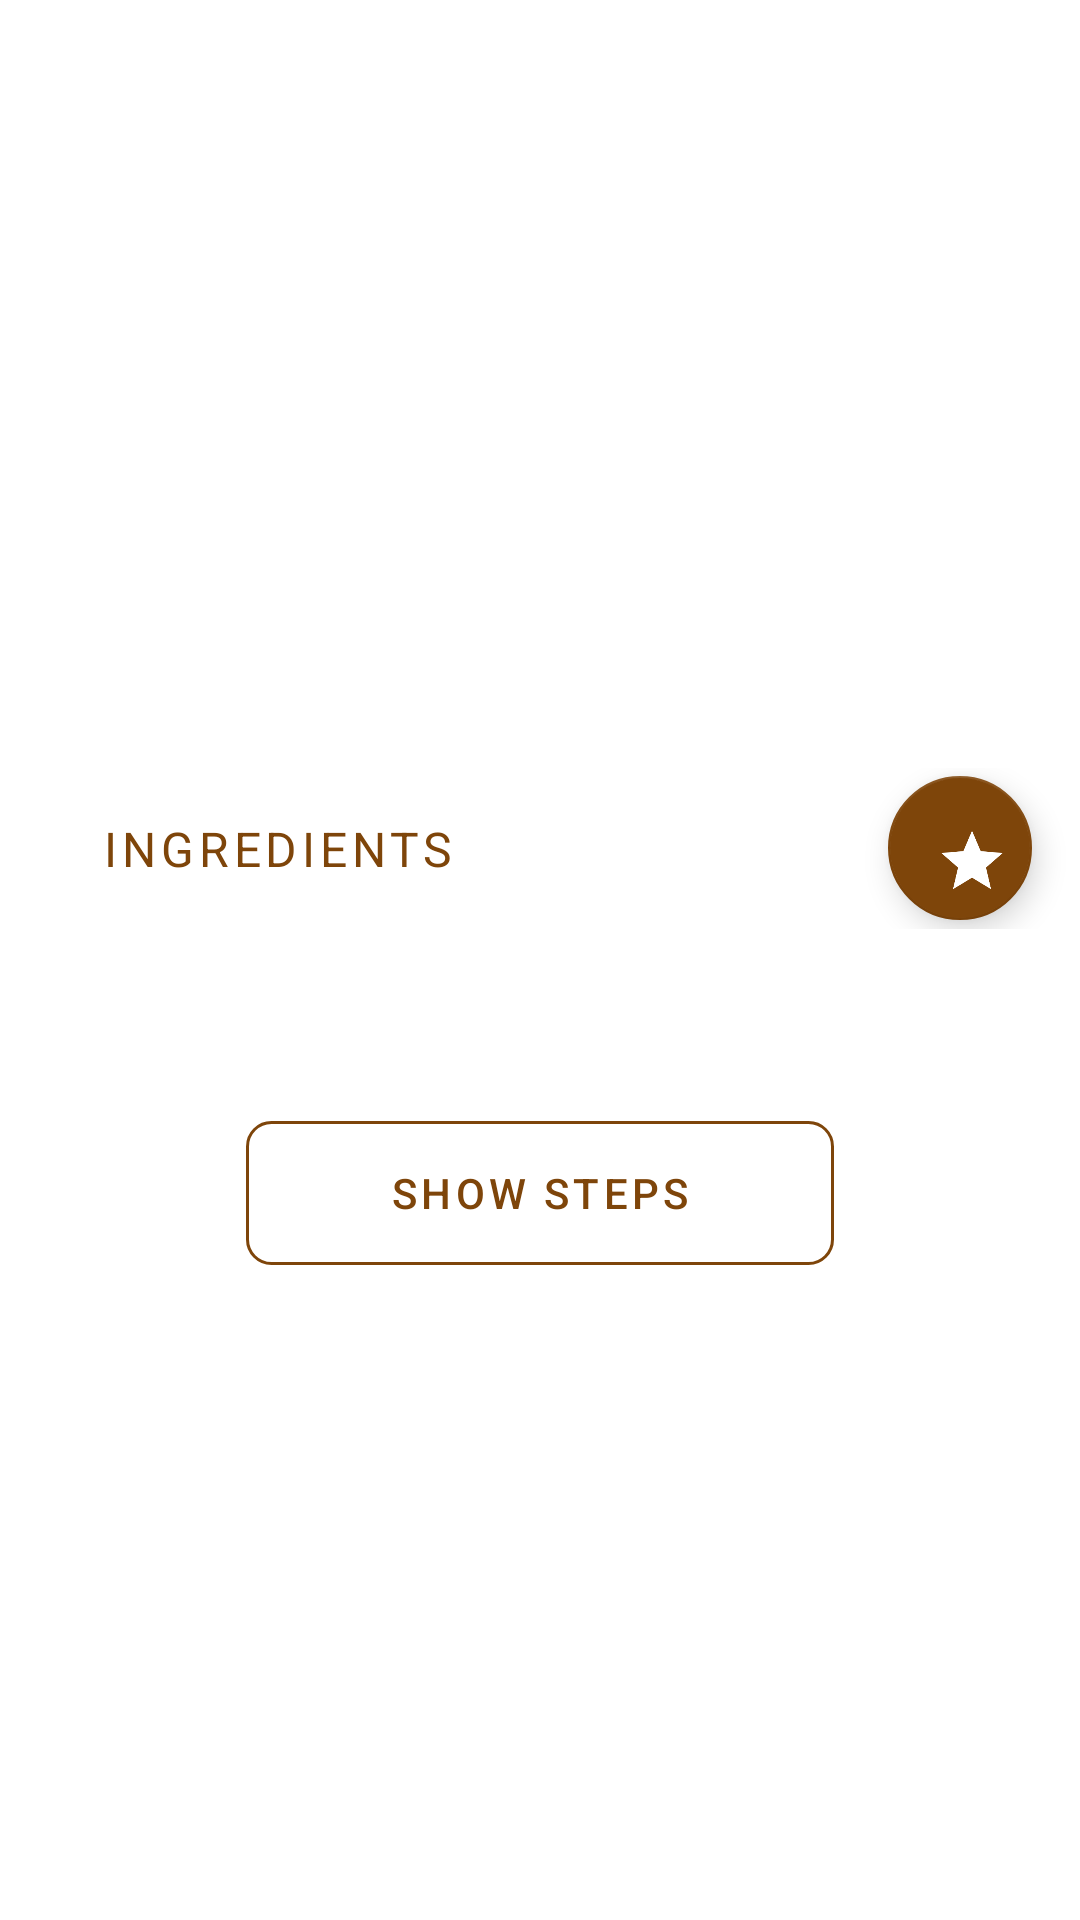

Named icons in this screenshot (1080 × 1920) and their bounding boxes, (x1, y1, x2, y2):
star: (888, 776, 1032, 920)
